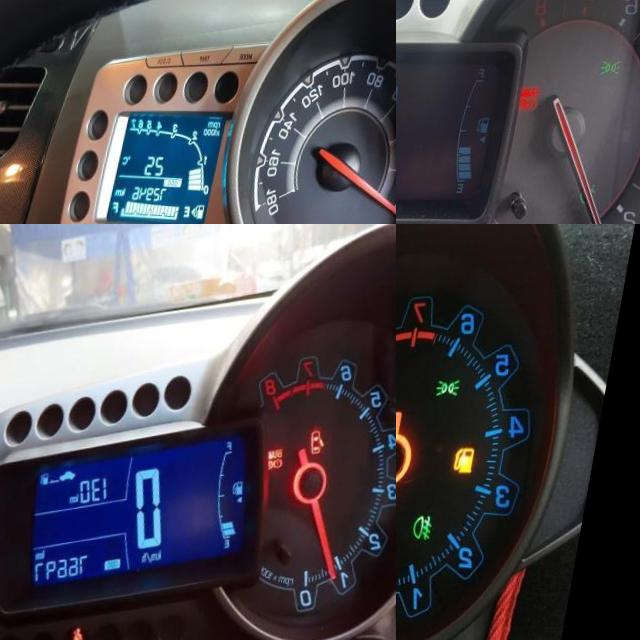Doors: (321, 429, 342, 457)
FrontFogLight: (429, 514, 452, 542)
Low fuel level: (467, 447, 491, 475)
SideLamp: (448, 379, 473, 397), (612, 60, 634, 78)
